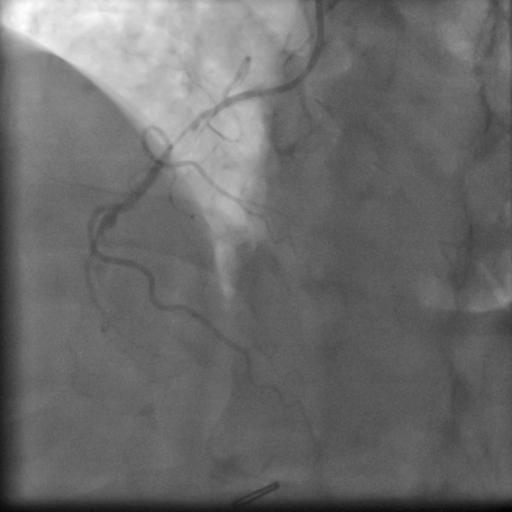Stenosis: (162, 117, 202, 150)
